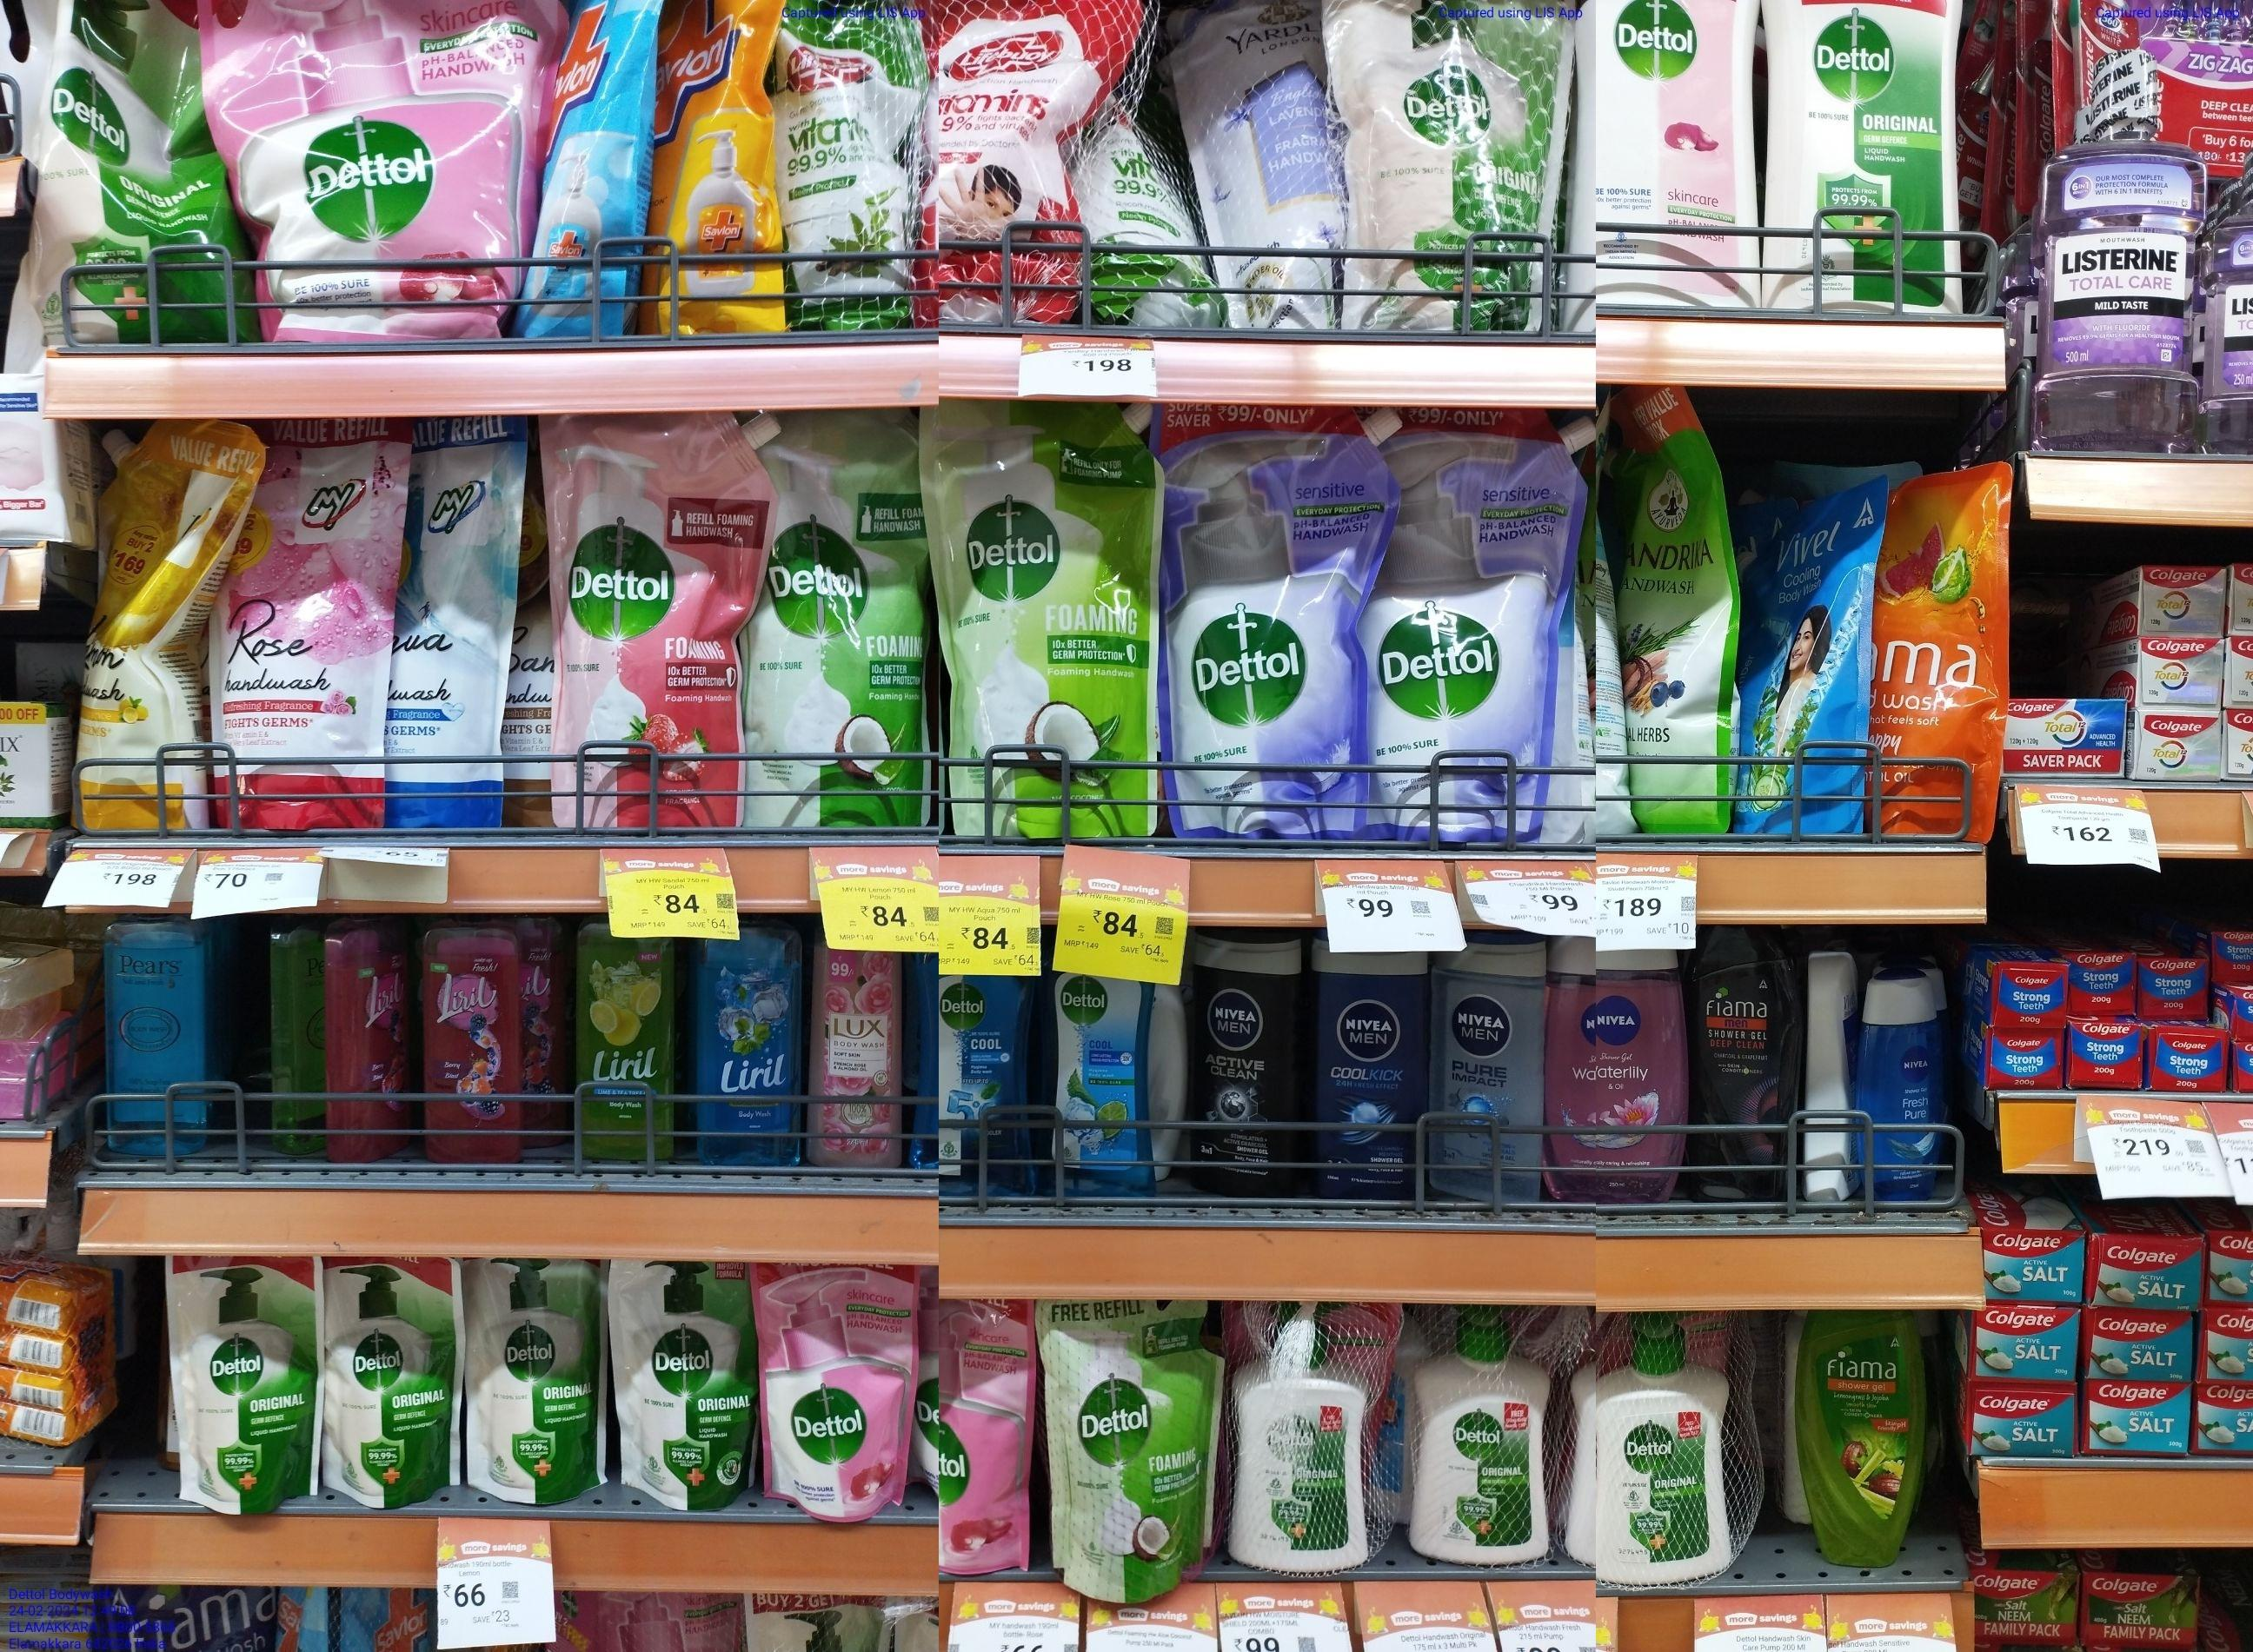Dettol_Bodywash_Cool: (929, 947, 1032, 1185)
Liril_Cooling_Mint_Body_Wash_250ML: (703, 909, 805, 1168)
Liril_Lime_and_Tea_Tree_Oil_Body_Wash_250ML: (575, 923, 665, 1163)
Pears_Pure_Glycerin_and_Mint_Extracts_Body_Wash_250ML: (103, 914, 212, 1147)
